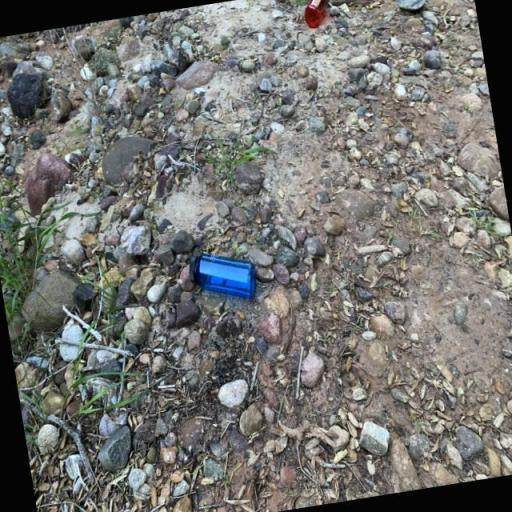bottle: (186, 234, 260, 308), (301, 0, 332, 29)
